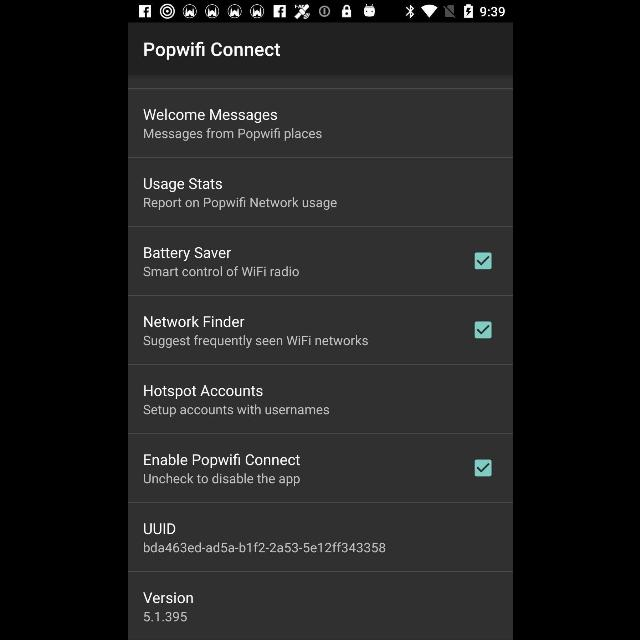checkbox: (473, 459, 491, 477), (473, 321, 491, 339), (473, 252, 491, 270)
text: (142, 336, 368, 348), (143, 404, 329, 418), (143, 128, 321, 142), (144, 42, 280, 60), (143, 542, 385, 552), (144, 198, 336, 210), (143, 454, 299, 468), (143, 108, 277, 124), (143, 474, 299, 486), (144, 385, 262, 399), (142, 266, 298, 276), (144, 246, 230, 262), (142, 315, 244, 327), (143, 178, 221, 192), (142, 592, 192, 604), (144, 612, 186, 622), (143, 523, 175, 535)
toolbar: (128, 23, 512, 76)
uppertaskbar: (128, 1, 512, 23)
